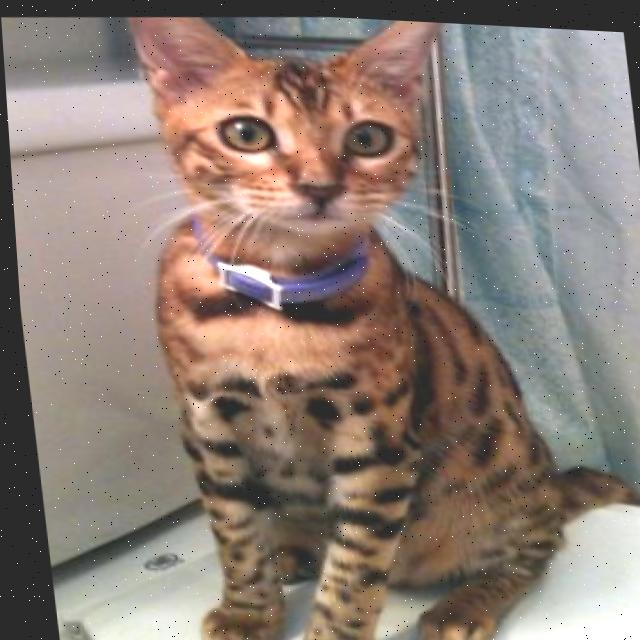Bengal: (78, 3, 640, 640)
